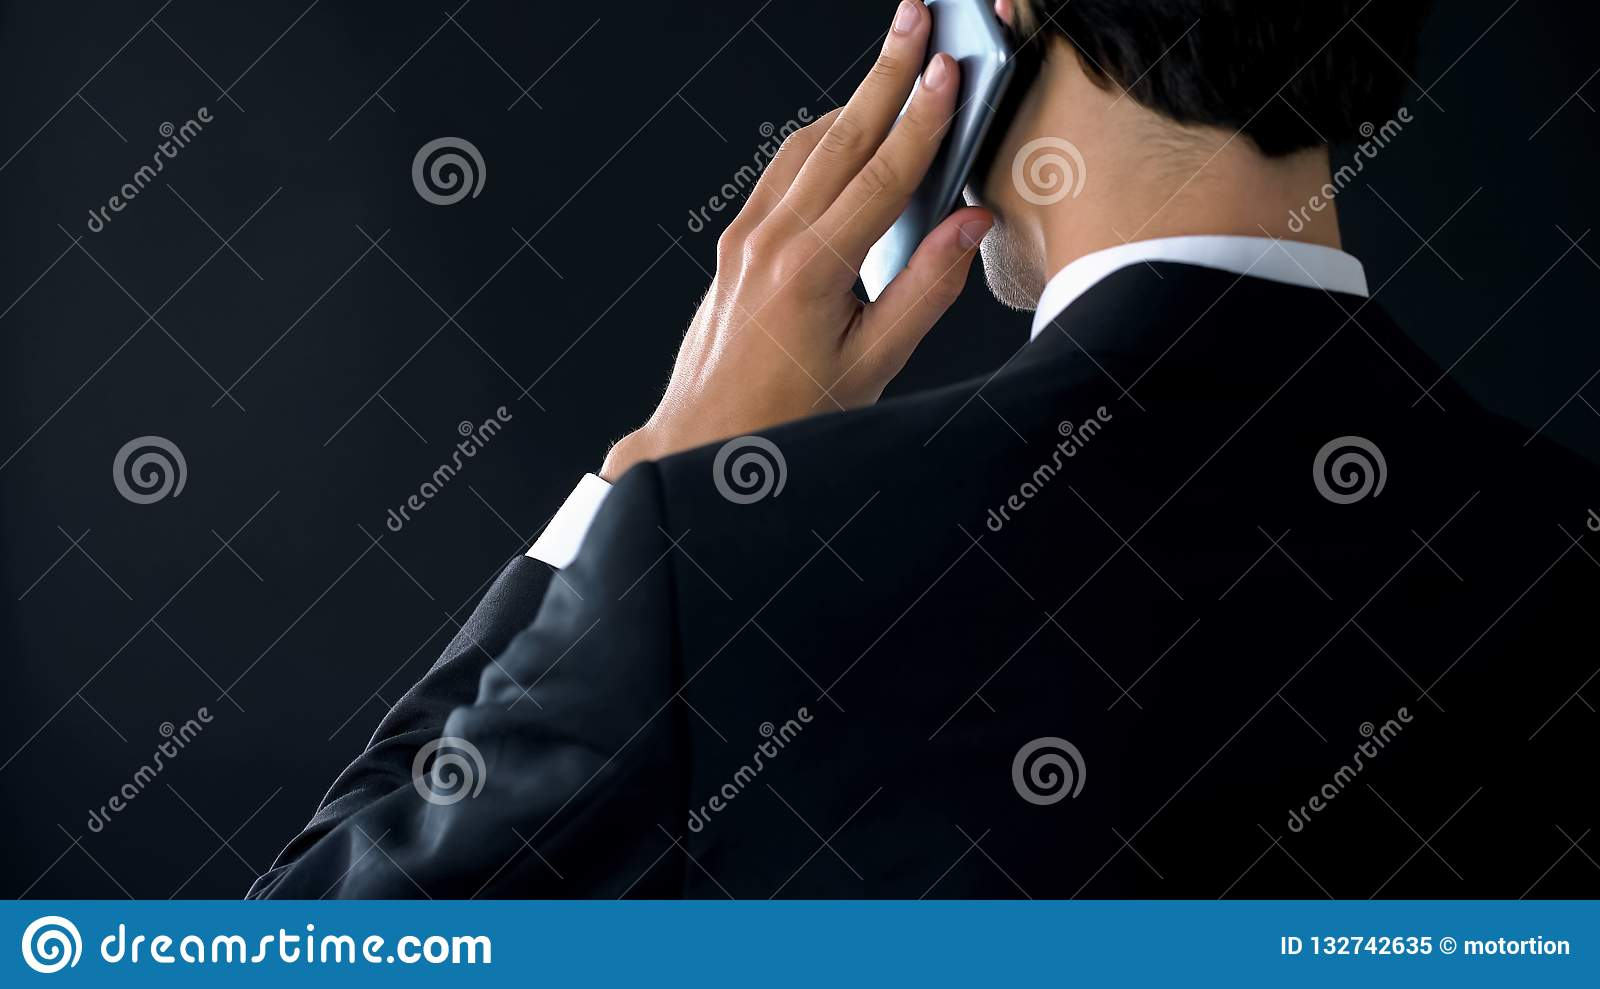phone: (849, 1, 1016, 304)
